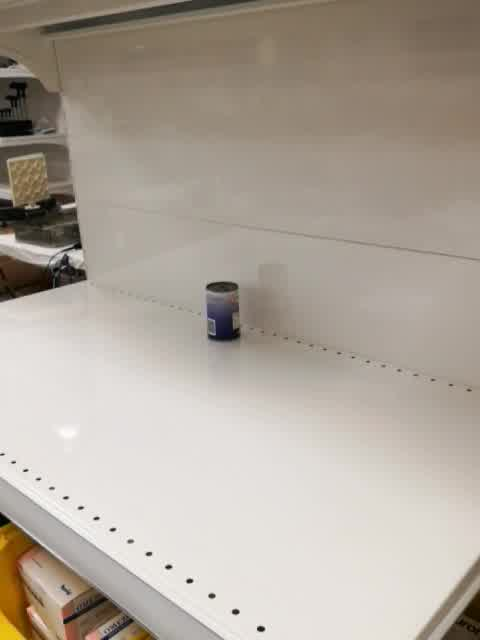sardine: (205, 280, 241, 343)
